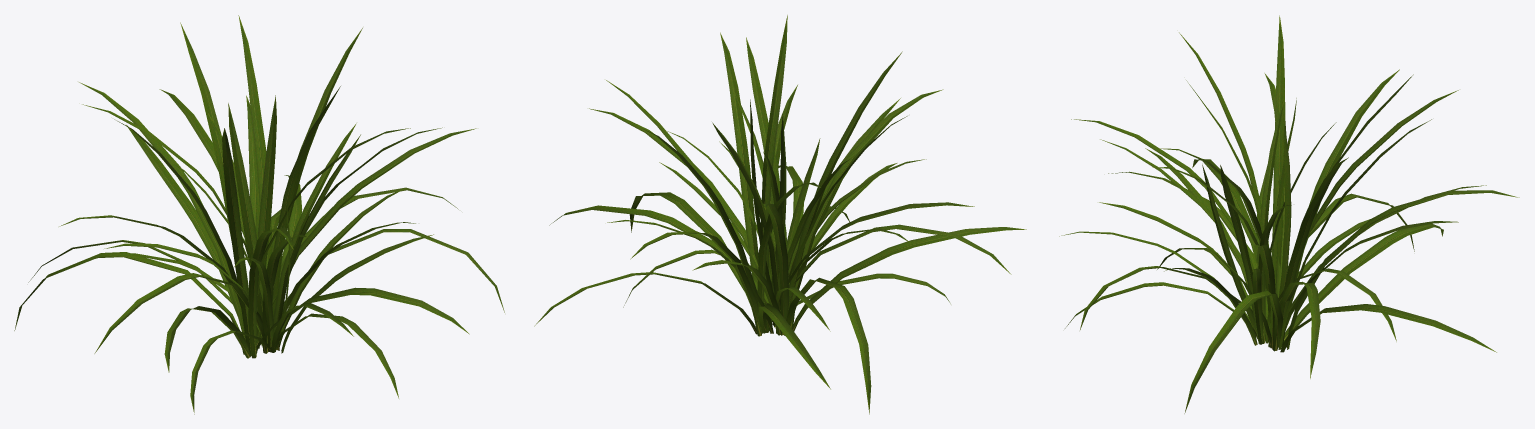
File: grass.glb
The picture shows the model from 3 angles, left to right: view 1: azimuth 30°, elevation 25°; view 2: azimuth 150°, elevation 25°; view 3: azimuth 270°, elevation 25°; orthographic projection. The views are drawn at different scales.
Visible parts, largest first — view 1: grass_01; view 2: grass_01; view 3: grass_01.
Part boxes in pixels (box(x1,y1,x2,y2)): grass_01: box(14, 15, 504, 414); grass_01: box(534, 15, 1026, 414); grass_01: box(1059, 15, 1519, 413).
Size of the model in its own units: 0.1162 by 0.0762 by 0.1122.
1 material, 1 textured.
